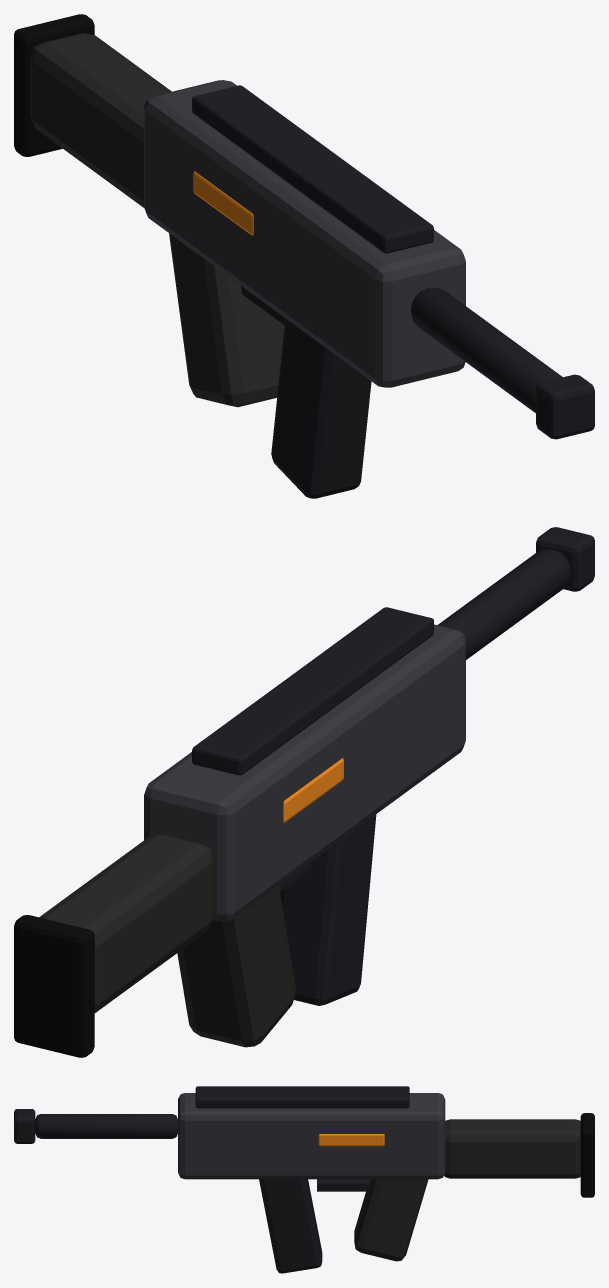
Rendered from Hammer.fbx.
3 renders of one model, top to bottom at view 1: azimuth 30°, elevation 25°; view 2: azimuth 150°, elevation 25°; view 3: azimuth 270°, elevation 25°, orthographic. The views are drawn at different scales.
Parts seen in each view (by area): view 1: Part__Metal__3a3a40, Part__Metal__1f2024, Part__SmoothPlastic__2b2a28, Handle__SmoothPlastic__2b2a28, Part__SmoothPlastic__111111, Muzzle__Metal__1f2024, Part__SmoothPlastic__ff8c1e; view 2: Part__Metal__3a3a40, Part__Metal__1f2024, Part__SmoothPlastic__2b2a28, Handle__SmoothPlastic__2b2a28, Part__SmoothPlastic__111111, Muzzle__Metal__1f2024, Part__SmoothPlastic__ff8c1e; view 3: Part__Metal__3a3a40, Part__Metal__1f2024, Part__SmoothPlastic__2b2a28, Handle__SmoothPlastic__2b2a28, Part__SmoothPlastic__111111, Part__SmoothPlastic__ff8c1e, Muzzle__Metal__1f2024.
Part boxes in pixels (x1,y1,x2,y2): Part__Metal__3a3a40: [144, 80, 465, 387]; Part__Metal__1f2024: [192, 85, 562, 498]; Part__SmoothPlastic__2b2a28: [30, 33, 171, 208]; Handle__SmoothPlastic__2b2a28: [169, 233, 284, 407]; Part__SmoothPlastic__111111: [14, 14, 94, 156]; Muzzle__Metal__1f2024: [536, 374, 594, 439]; Part__SmoothPlastic__ff8c1e: [193, 171, 253, 235]; Part__Metal__3a3a40: [144, 624, 465, 921]; Part__Metal__1f2024: [192, 549, 571, 1005]; Part__SmoothPlastic__2b2a28: [39, 834, 213, 1012]; Handle__SmoothPlastic__2b2a28: [177, 885, 295, 1047]; Part__SmoothPlastic__111111: [14, 915, 94, 1057]; Muzzle__Metal__1f2024: [536, 527, 594, 591]; Part__SmoothPlastic__ff8c1e: [283, 758, 343, 822]; Part__Metal__3a3a40: [178, 1093, 445, 1179]; Part__Metal__1f2024: [35, 1086, 409, 1273]; Part__SmoothPlastic__2b2a28: [444, 1119, 580, 1178]; Handle__SmoothPlastic__2b2a28: [354, 1179, 428, 1261]; Part__SmoothPlastic__111111: [580, 1113, 594, 1197]; Part__SmoothPlastic__ff8c1e: [318, 1134, 384, 1146]; Muzzle__Metal__1f2024: [14, 1109, 35, 1143].
Size of the model in its own units: 0.33 by 1.09 by 3.26.
